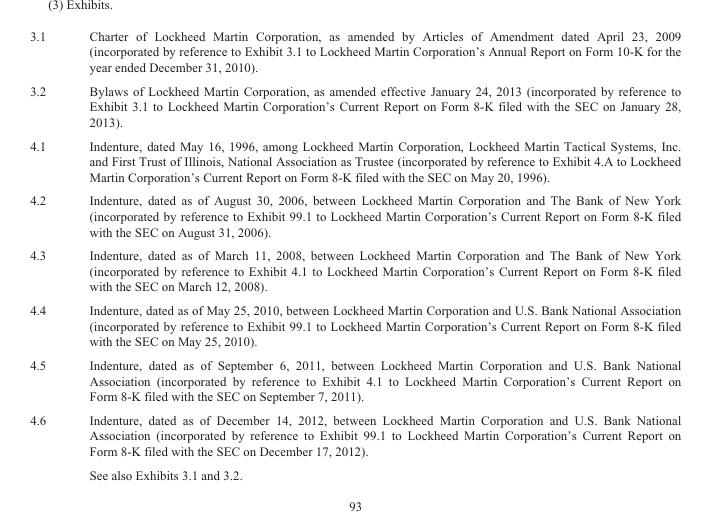table: (29, 28, 680, 481)
table column: (66, 28, 680, 481), (29, 28, 66, 481)
table row: (29, 78, 680, 133), (29, 133, 680, 188), (29, 188, 680, 243), (29, 297, 680, 352), (29, 352, 680, 407), (29, 407, 680, 462), (29, 243, 680, 297), (29, 28, 680, 78), (29, 462, 680, 481)
table spanning cell: (29, 407, 66, 481)
